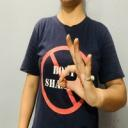hand: (57, 33, 98, 107)
